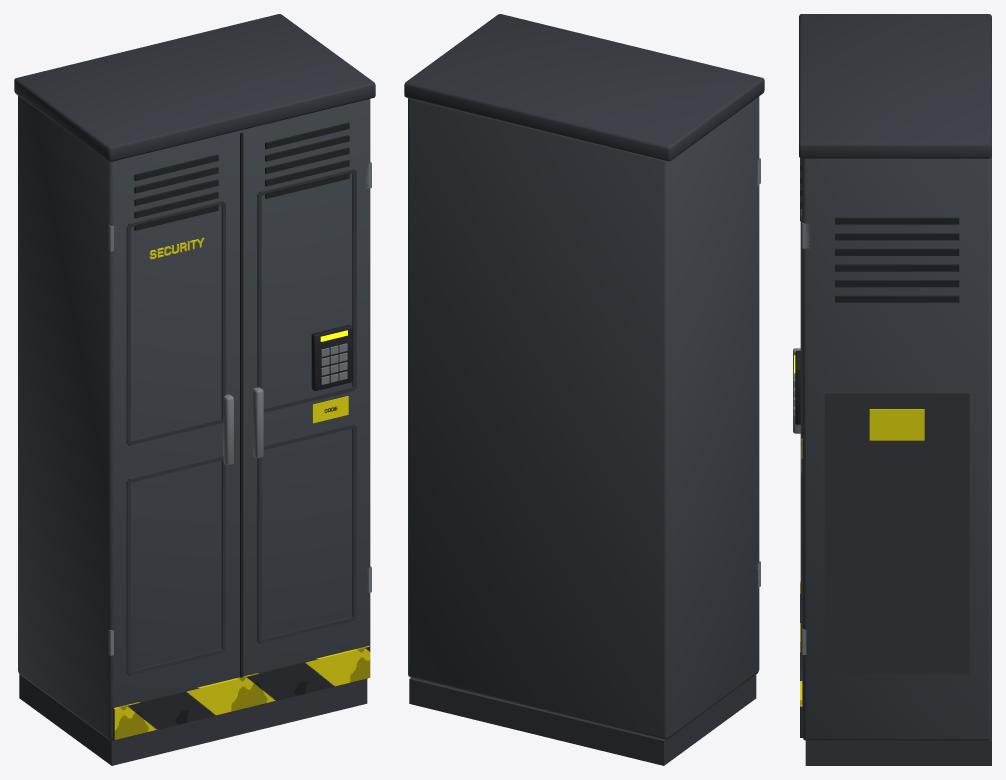
Rendered from locker.glb.
3 renders of one model, left to right at view 1: azimuth 30°, elevation 25°; view 2: azimuth 150°, elevation 25°; view 3: azimuth 270°, elevation 25°, orthographic.
Visible parts, largest first — view 1: Body; view 2: Body; view 3: Body.
Boxes of the visible parts, x1,y1,x2,y2 form: Body: (14, 14, 375, 765); Body: (404, 14, 764, 765); Body: (793, 14, 991, 765).
Bounding box in the file's own units: 0.9 × 2 × 0.577.
7 materials, 1 textured.
